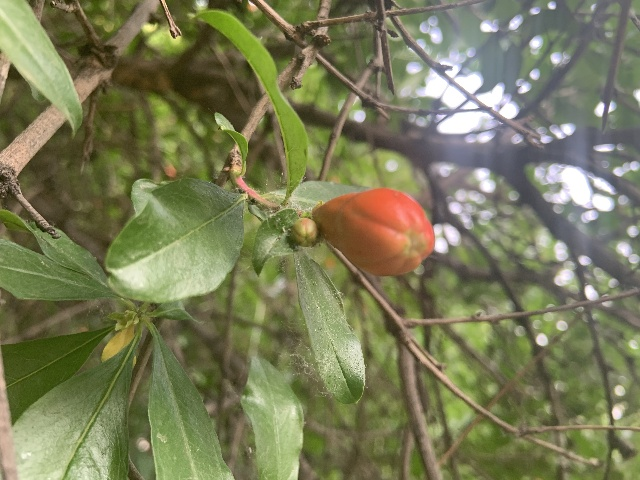bud: (313, 188, 434, 276), (290, 217, 319, 248)
